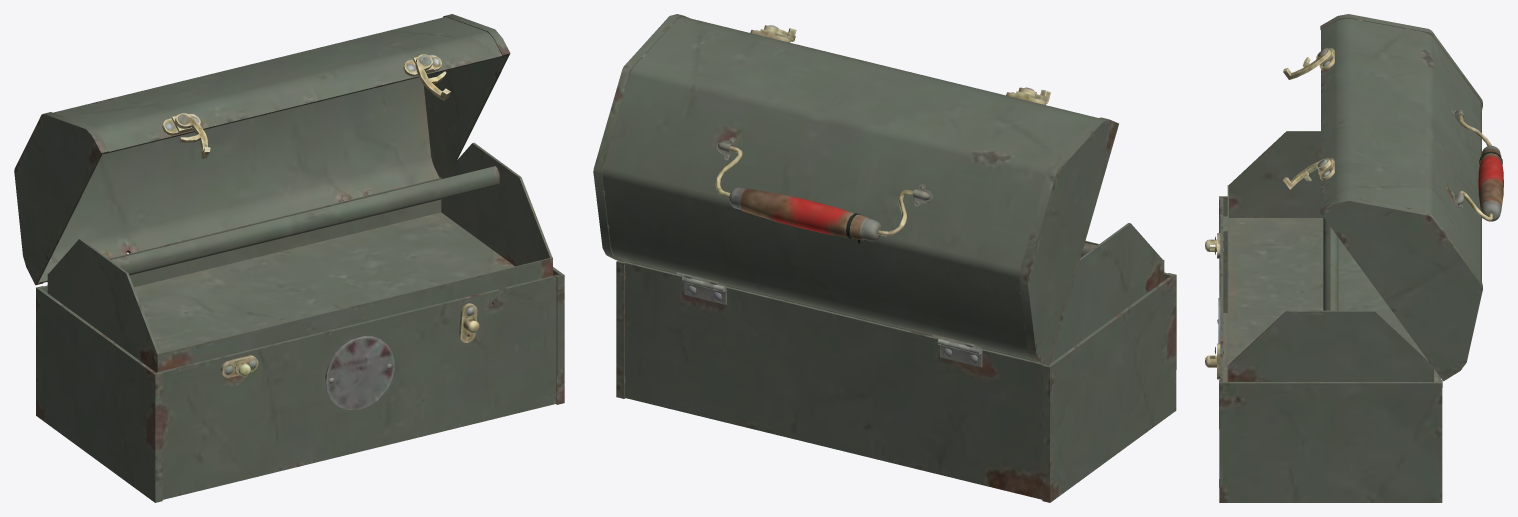
3 views of the same model, side by side, from view 1: azimuth 30°, elevation 25°; view 2: azimuth 150°, elevation 25°; view 3: azimuth 270°, elevation 25° (orthographic). The views are drawn at different scales.
Parts seen in each view (by area): view 1: metal_toolbox; view 2: metal_toolbox; view 3: metal_toolbox.
Part boxes in pixels (x1,y1,x2,y2): metal_toolbox: [14, 14, 564, 502]; metal_toolbox: [593, 14, 1176, 502]; metal_toolbox: [1205, 14, 1503, 502].
Size of the model in its own units: 0.4 by 0.3047 by 0.2705.
1 material, 1 textured.
